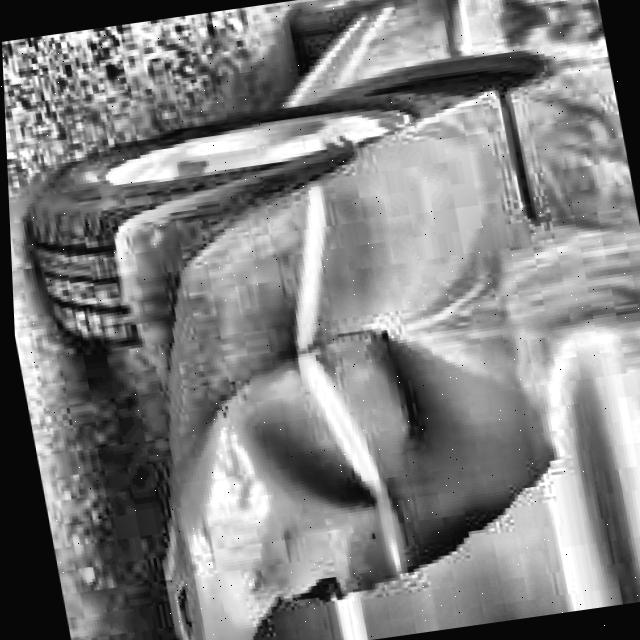bumper_dent: (146, 297, 573, 640)
